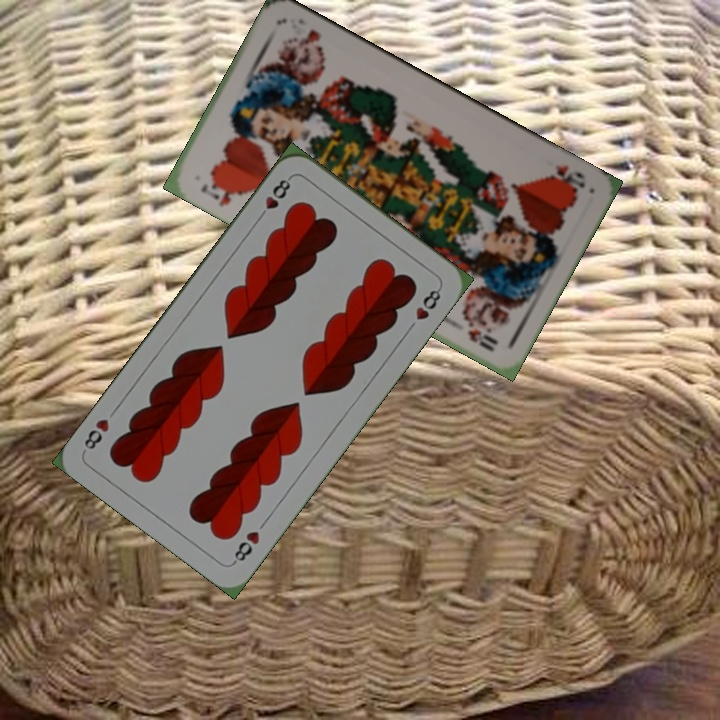H8: (253, 172, 294, 223), (229, 527, 263, 567)
HO: (197, 175, 244, 210), (541, 161, 589, 194)
